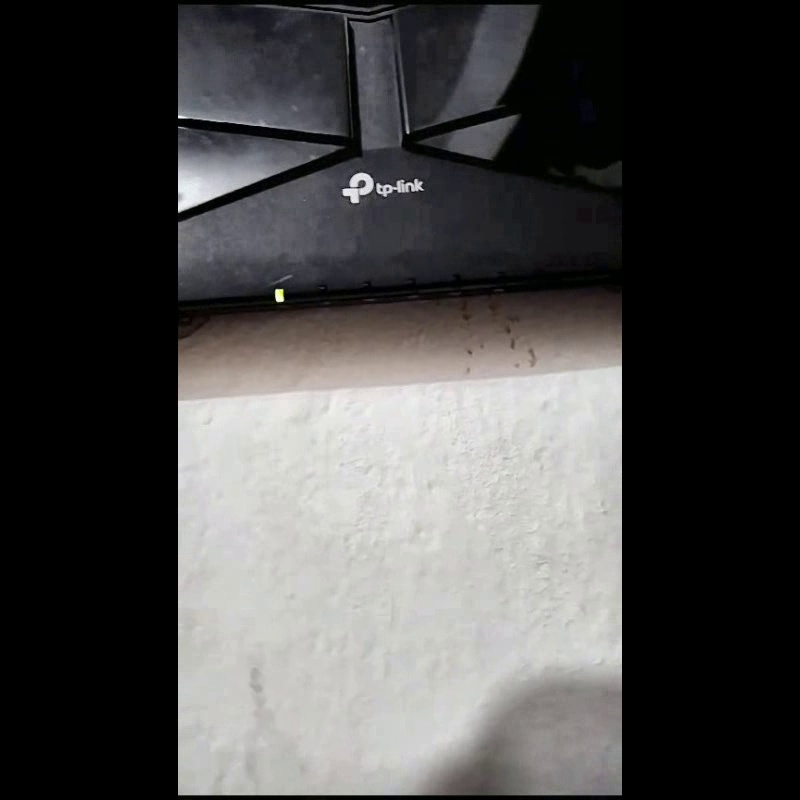off: (407, 275, 417, 294), (316, 281, 326, 300), (450, 272, 460, 290), (362, 278, 371, 296), (495, 270, 504, 288)
on_green: (274, 287, 284, 303)
